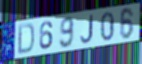0: (99, 11, 116, 43)
6: (119, 6, 136, 41), (39, 21, 54, 51)
9: (58, 16, 75, 50)
D: (17, 22, 35, 56)
J: (80, 14, 94, 45)
